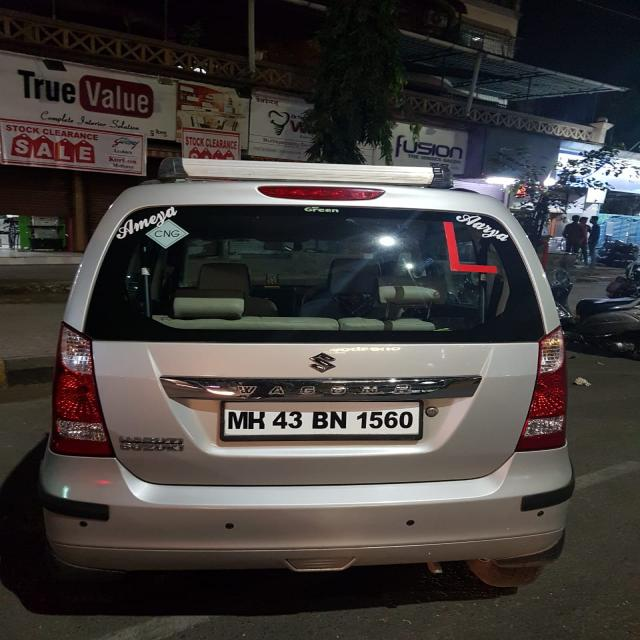Number-Plate: (224, 402, 421, 436)
